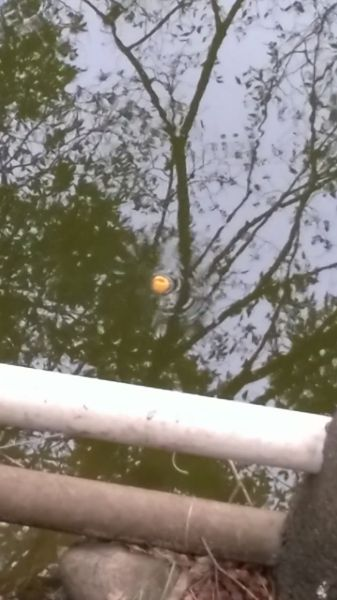eggs: (149, 272, 171, 297)
